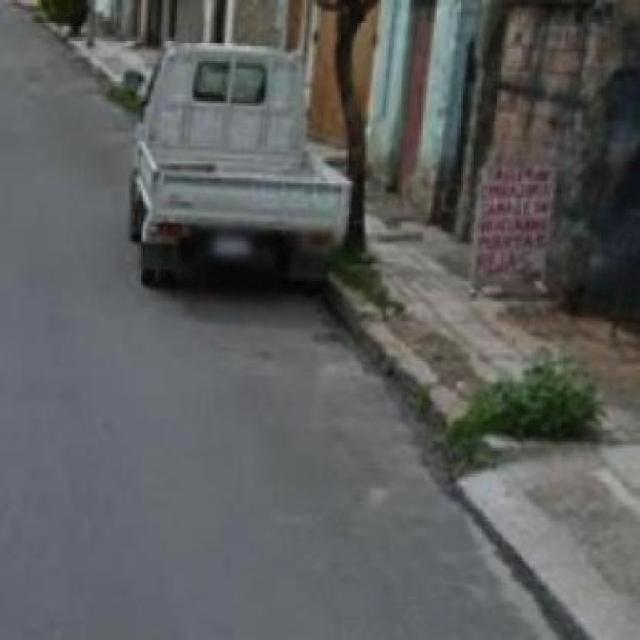car: (125, 23, 352, 279)
